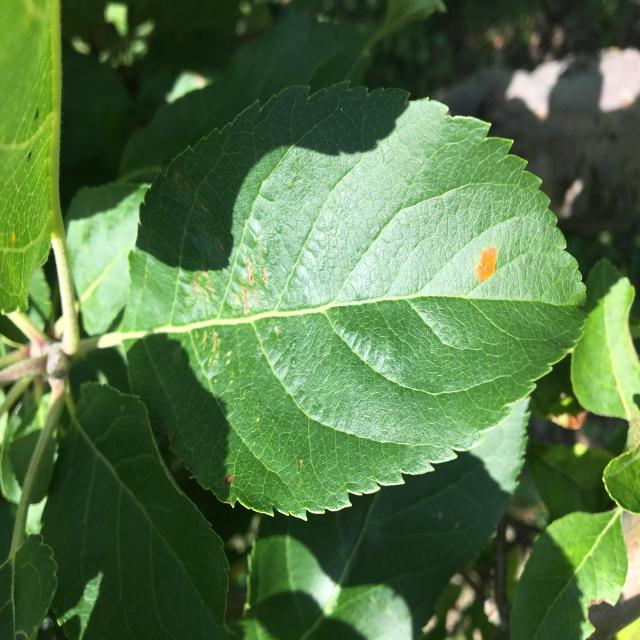Rust: (454, 234, 516, 287)
